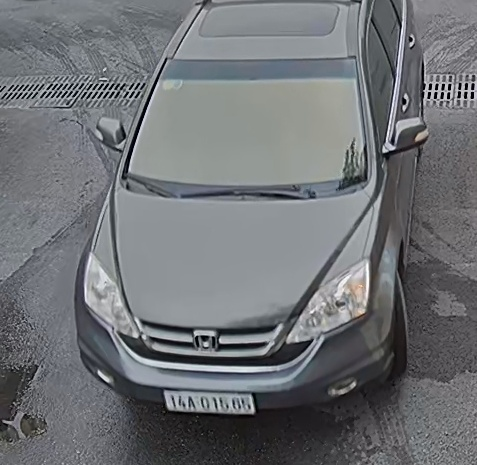vehicle plate: (163, 384, 262, 419)
